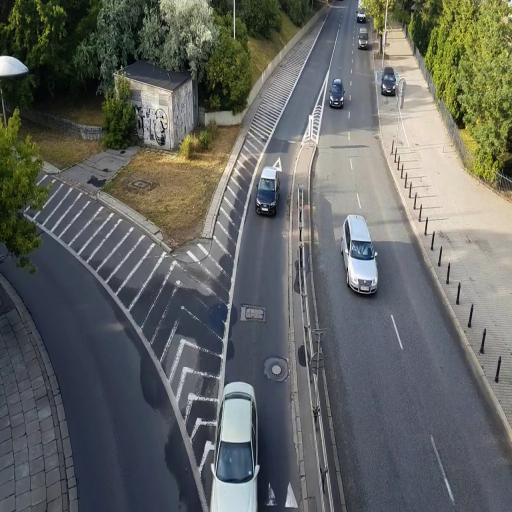vehicle: (210, 382, 260, 512), (342, 214, 378, 297), (380, 68, 398, 96), (328, 77, 344, 108)
